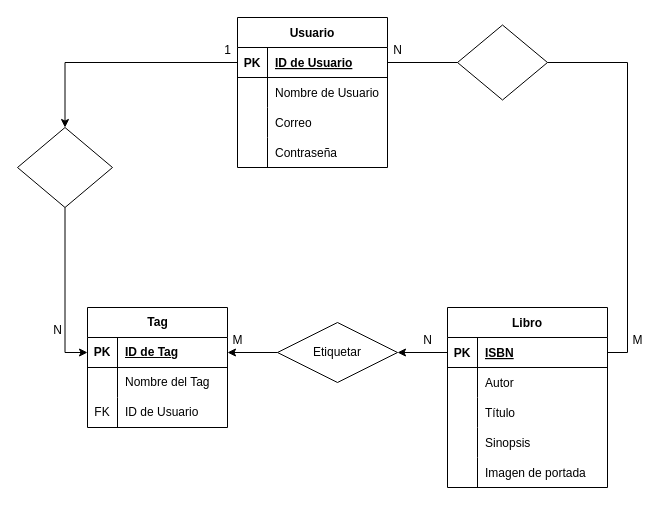
This 670x505 diagram has some shape labels left out. Here are the shapes that lost their labels. From the top down, the centre of each, then its label:
At (x=502, y=62): "Guardar".
At (x=64, y=167): "Crear".
